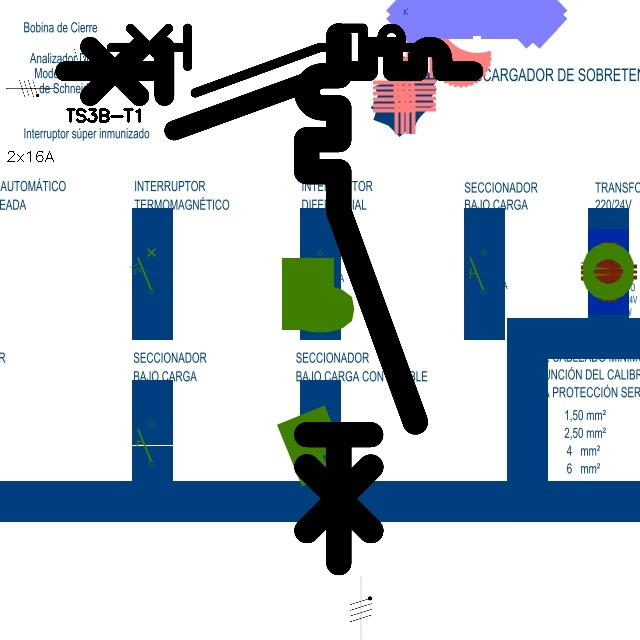interruptor_termomagnetico: (293, 22, 428, 576), (54, 36, 484, 141), (103, 20, 433, 101)
